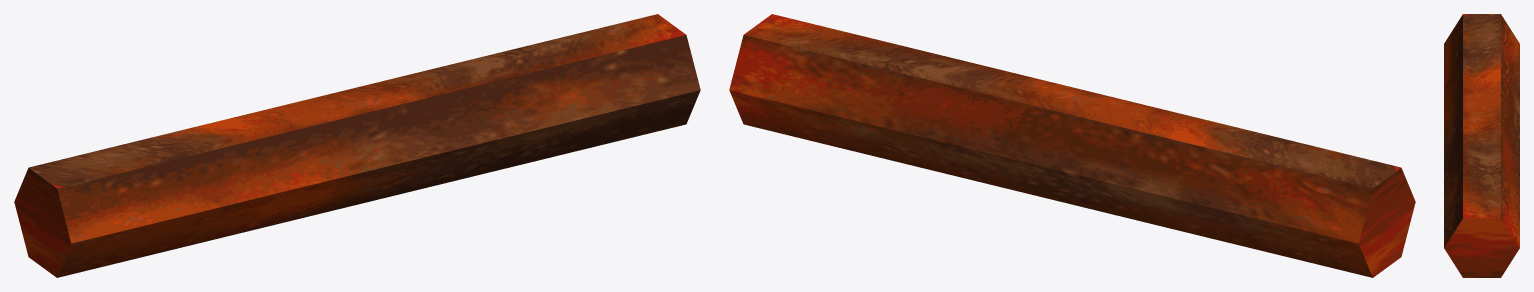
The model's file is Pipe.fbx.
3 views of the same model, side by side, from view 1: azimuth 30°, elevation 25°; view 2: azimuth 150°, elevation 25°; view 3: azimuth 270°, elevation 25° (orthographic). The views are drawn at different scales.
Visible parts, largest first — view 1: Cylinder.005; view 2: Cylinder.005; view 3: Cylinder.005.
Part boxes in pixels (x1,y1,x2,y2): Cylinder.005: [14, 14, 700, 277]; Cylinder.005: [729, 14, 1415, 277]; Cylinder.005: [1444, 14, 1519, 277].
Size of the model in its own units: 21.5 by 2.92 by 3.37.
